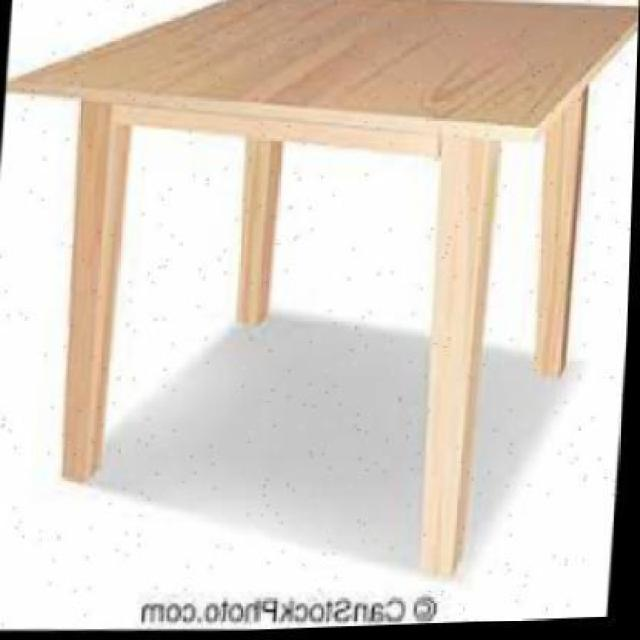tables: (4, 0, 638, 578)
